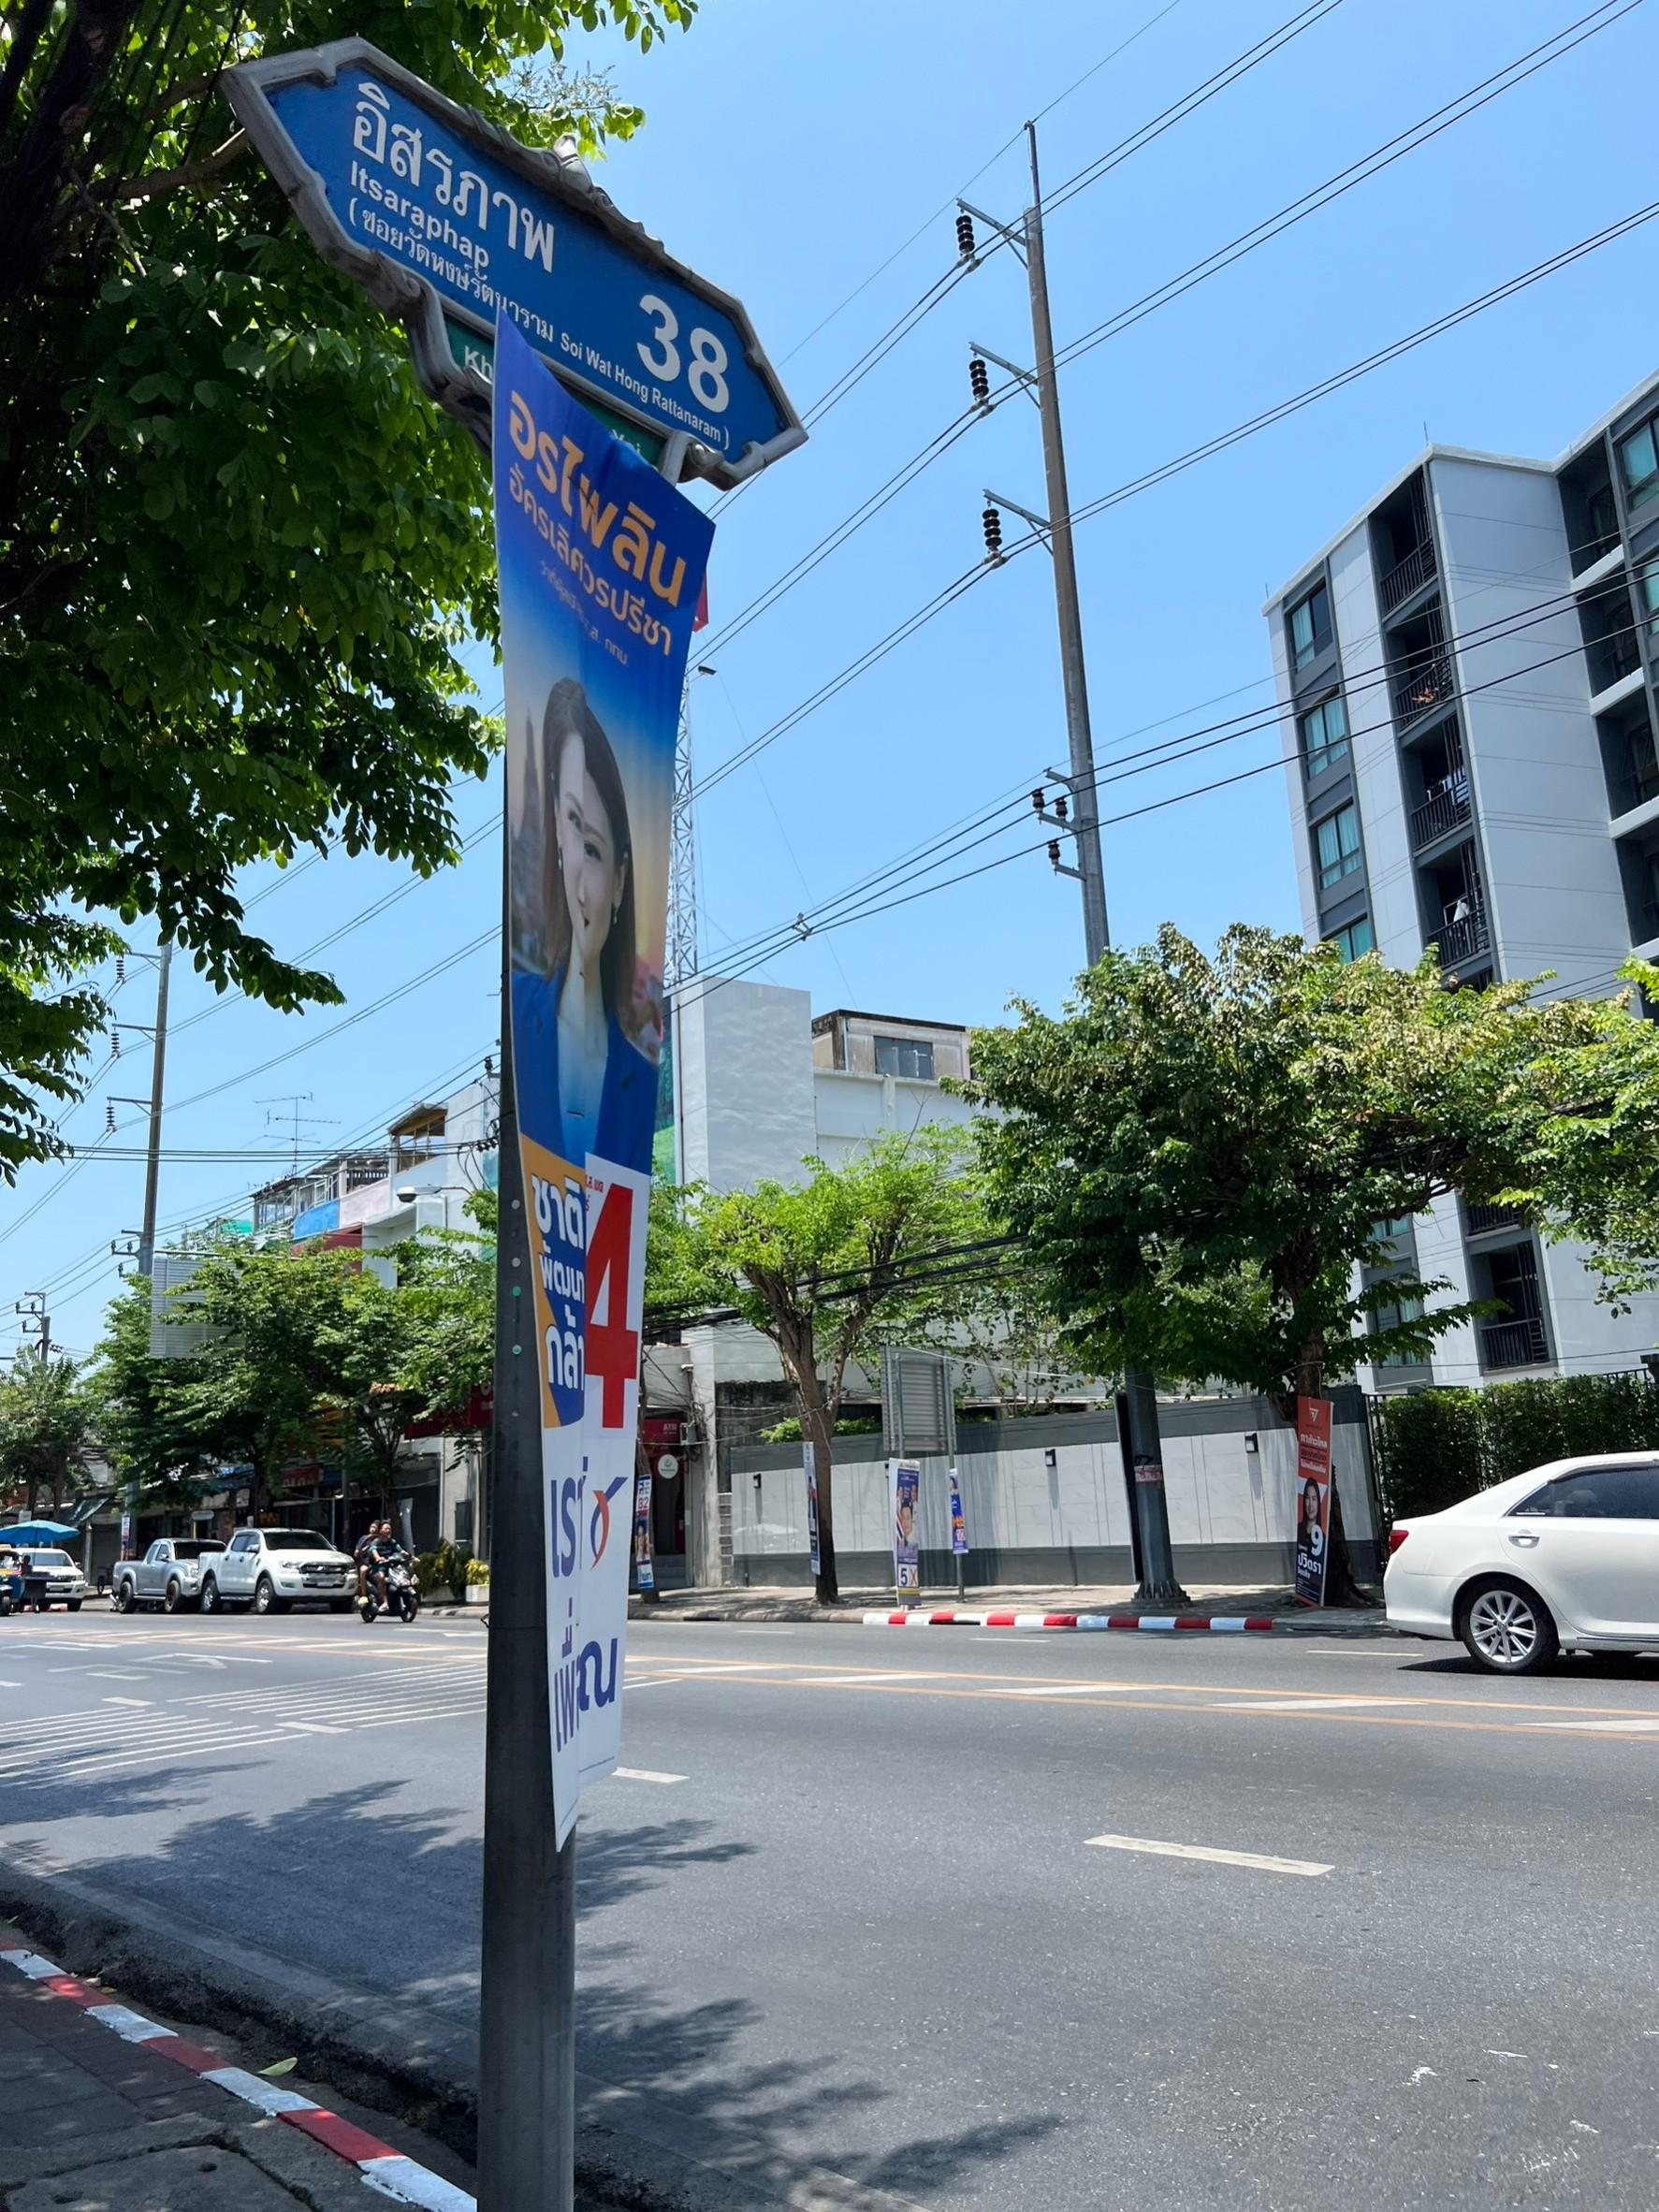Banner: (458, 273, 690, 1857)
